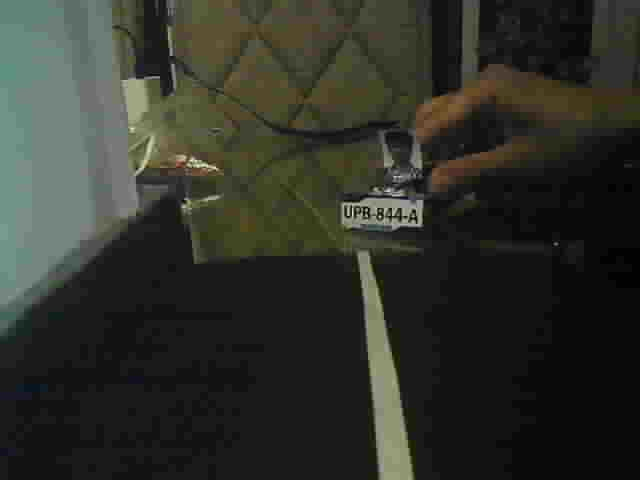PLACA: (339, 193, 425, 238)
ROSTRO: (378, 130, 426, 183)
